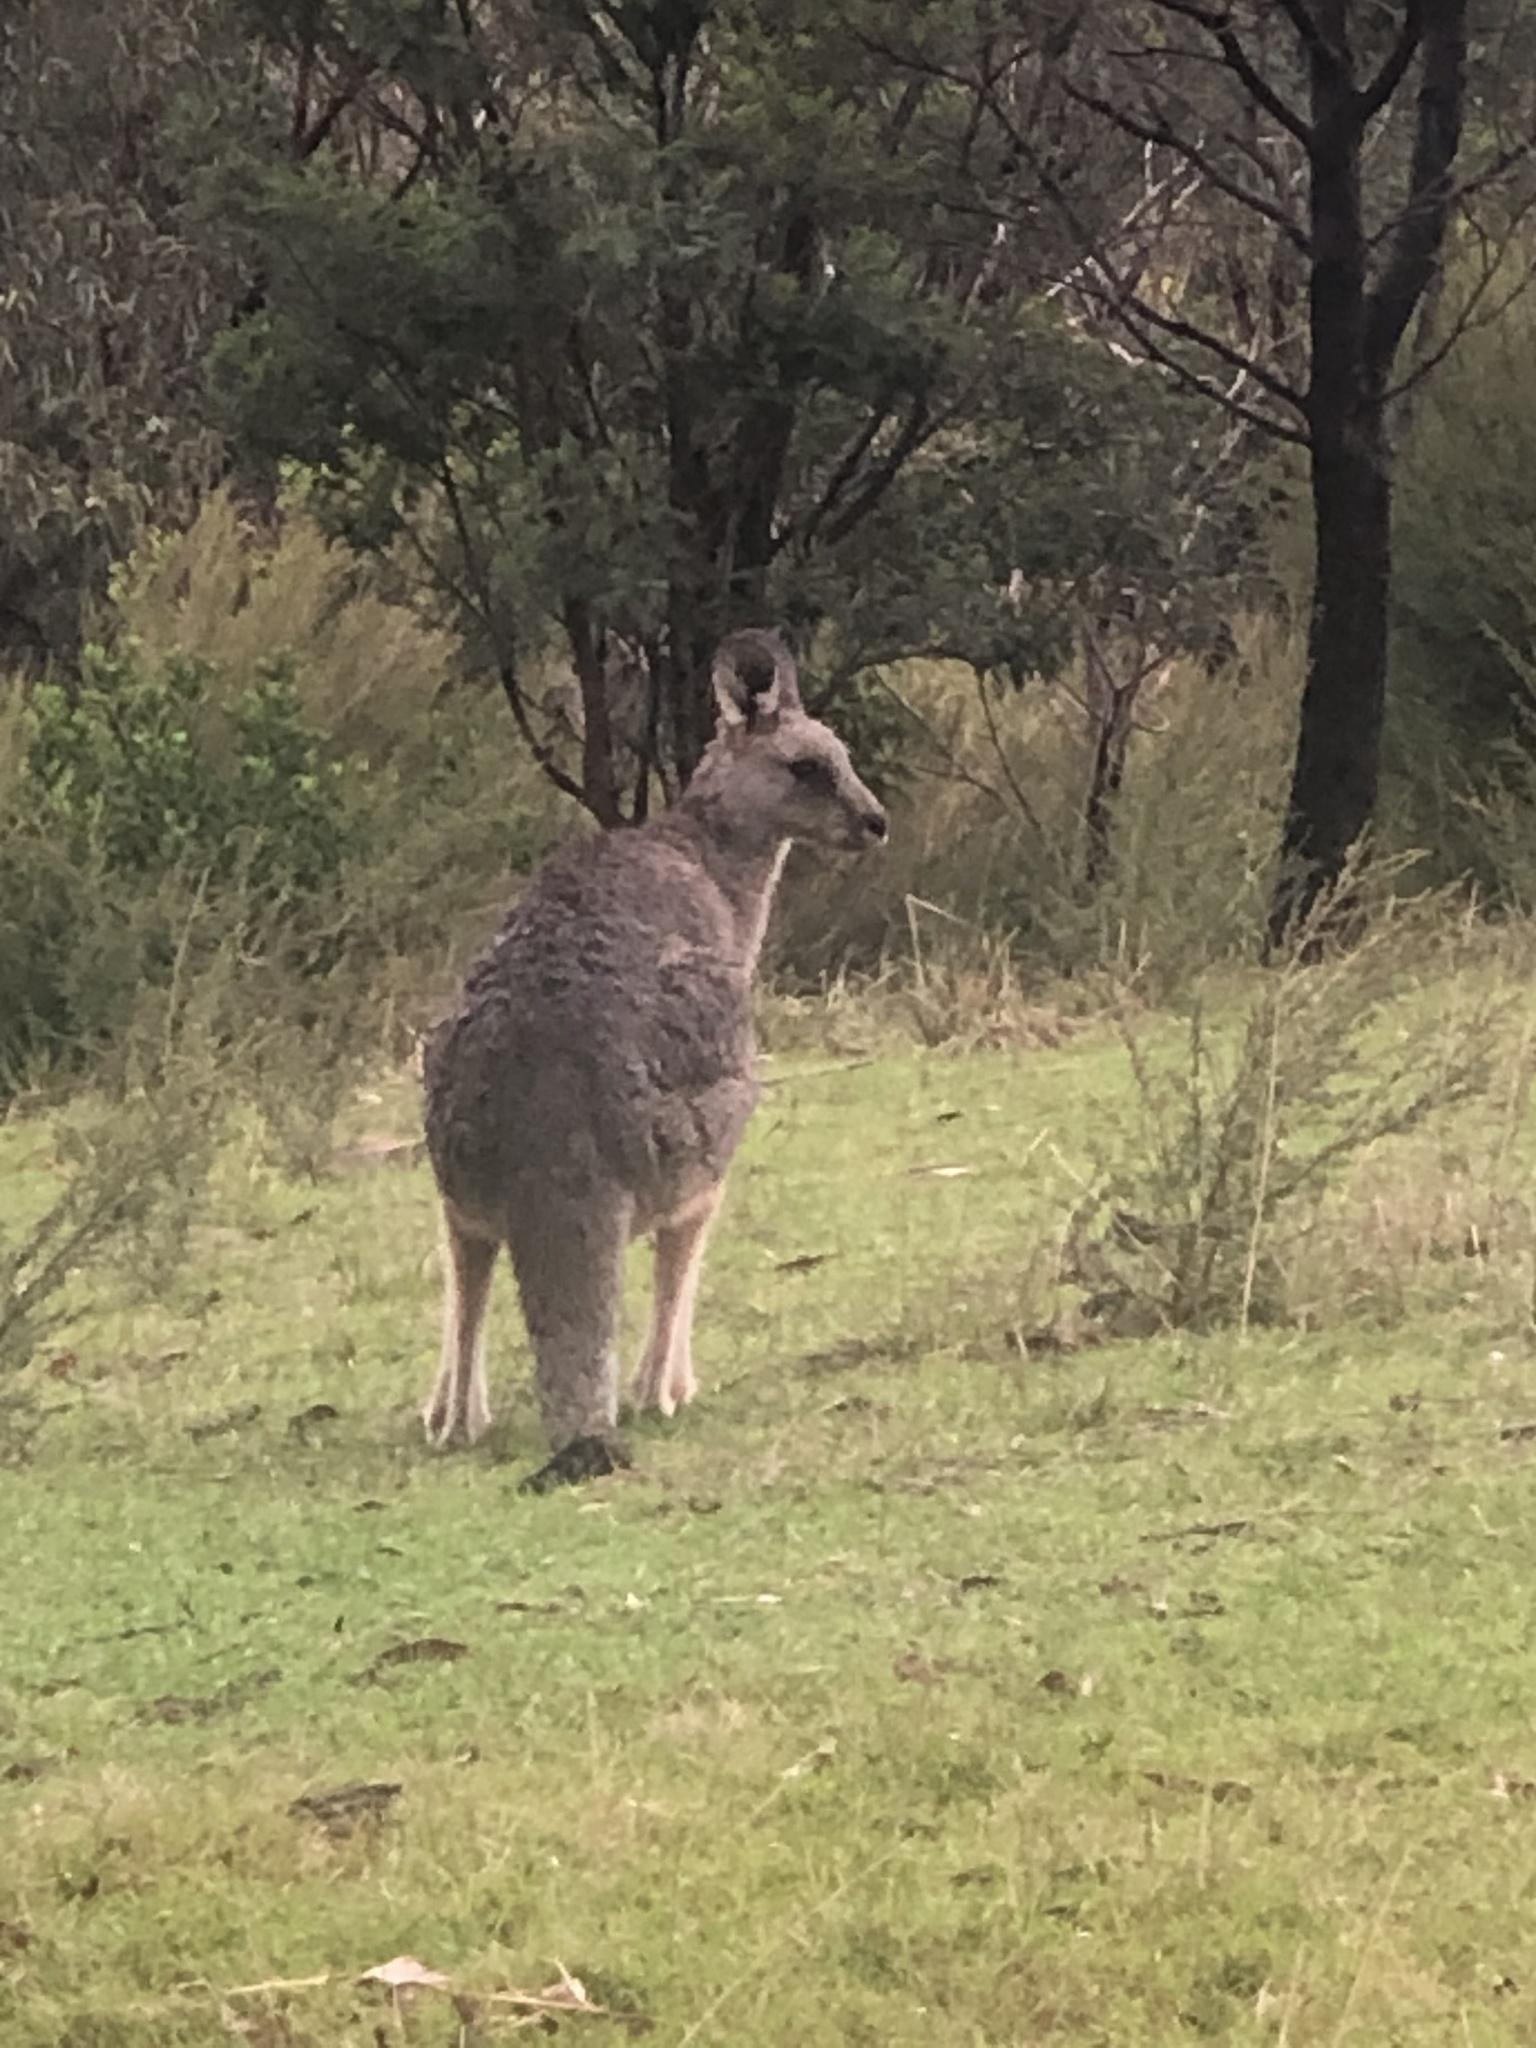Eastern grey kangaroo: (410, 622, 905, 1535)
